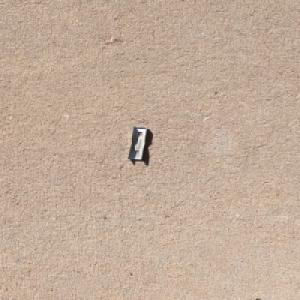ClampPart: (125, 125, 149, 160)
